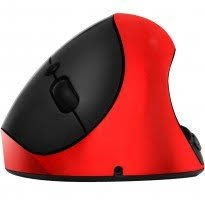mouse: (0, 15, 201, 190)
